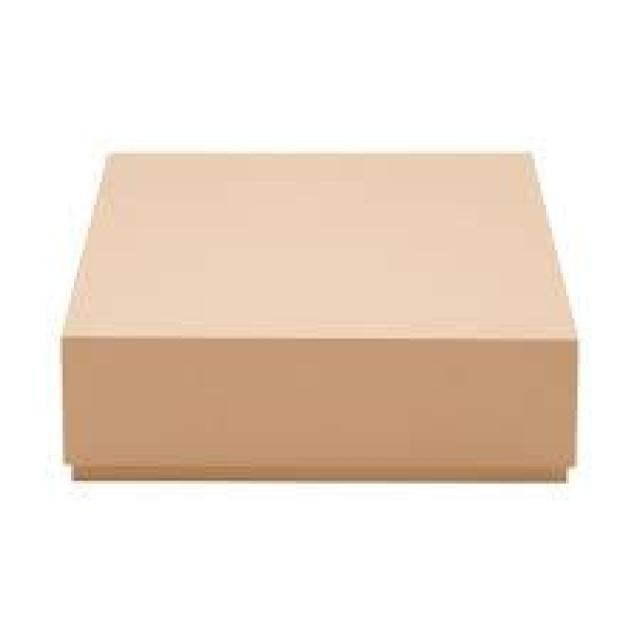box: (59, 150, 580, 483)
